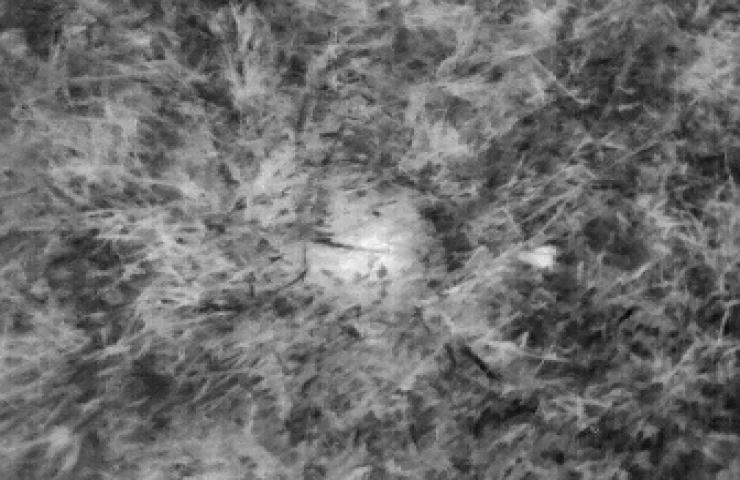landmines: (323, 220, 419, 290)
